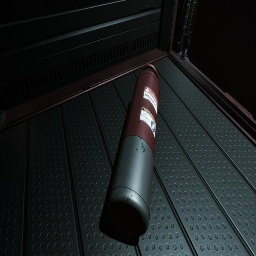NitrogenTank ,: (108, 64, 160, 237)
